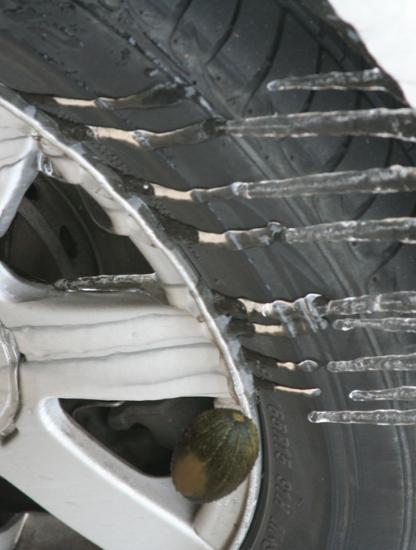Melon: (158, 398, 264, 504)
